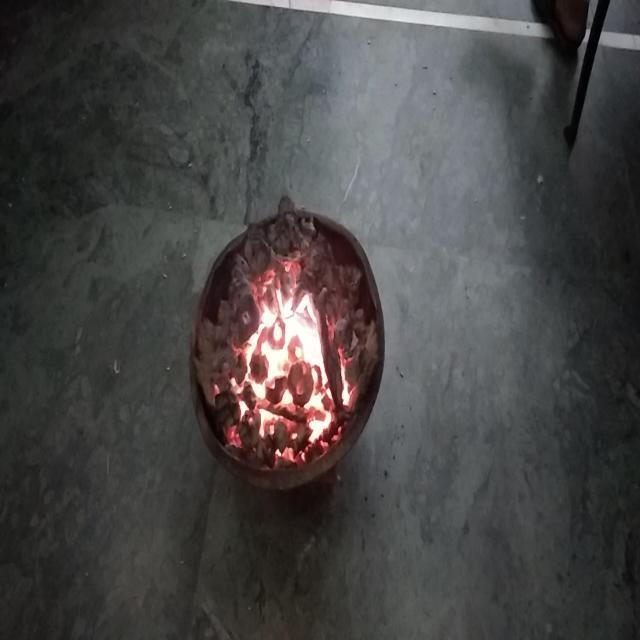Fire: (220, 199, 358, 475)
